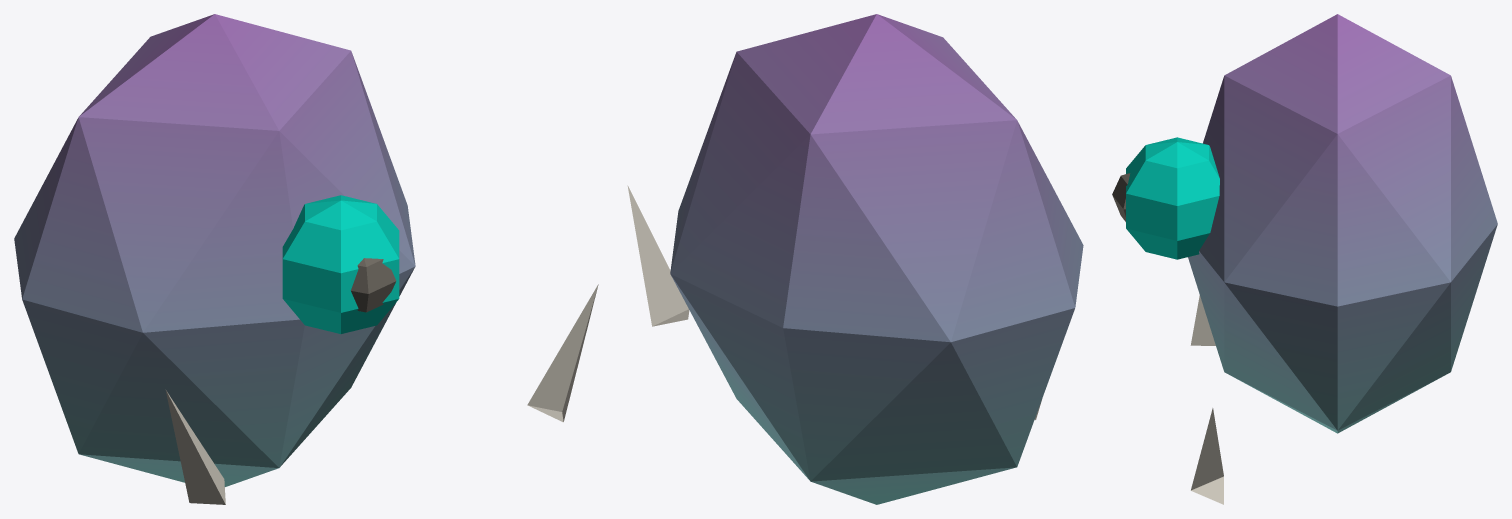
File: head_alien_F.glb
3 views of the same model, side by side, from view 1: azimuth 30°, elevation 25°; view 2: azimuth 150°, elevation 25°; view 3: azimuth 270°, elevation 25° (orthographic). The views are drawn at different scales.
Bounding box in the file's own units: 1 × 0.9008 × 0.7506.
